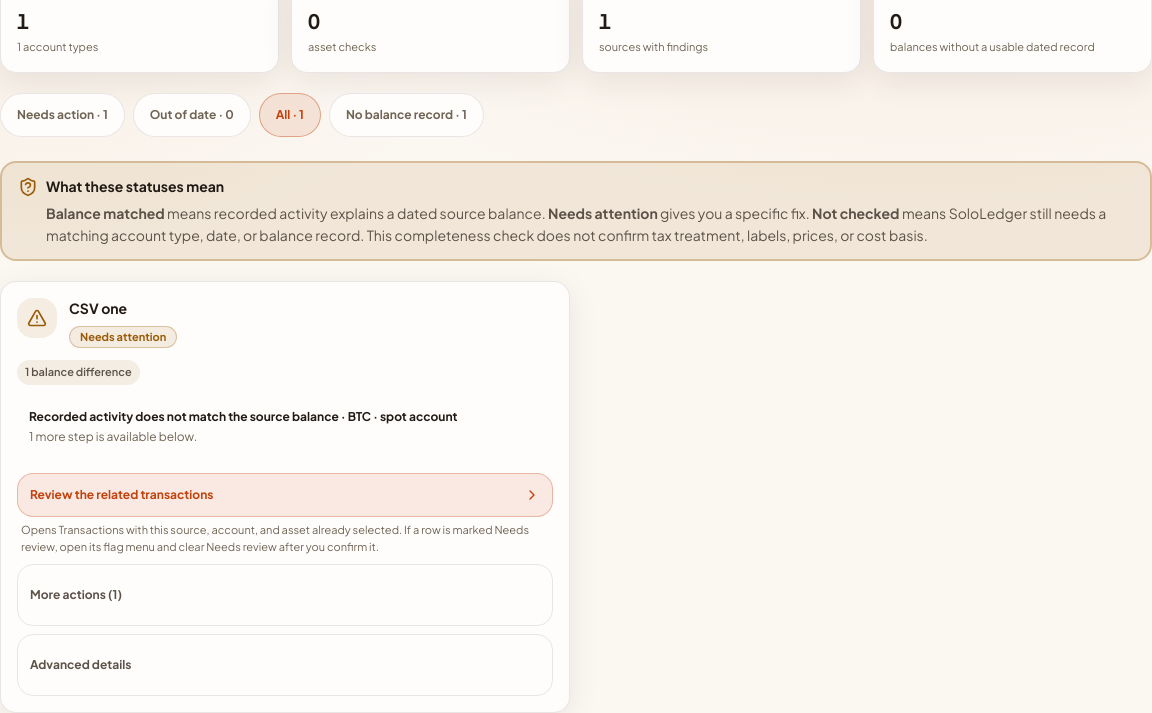
Test: DataHealthWorkspace › groups account-class findings that share the same actionable Import control
(page scrolled)
Click the heading "More actions (1)".
click(76, 595)  # box [30,587,122,602]
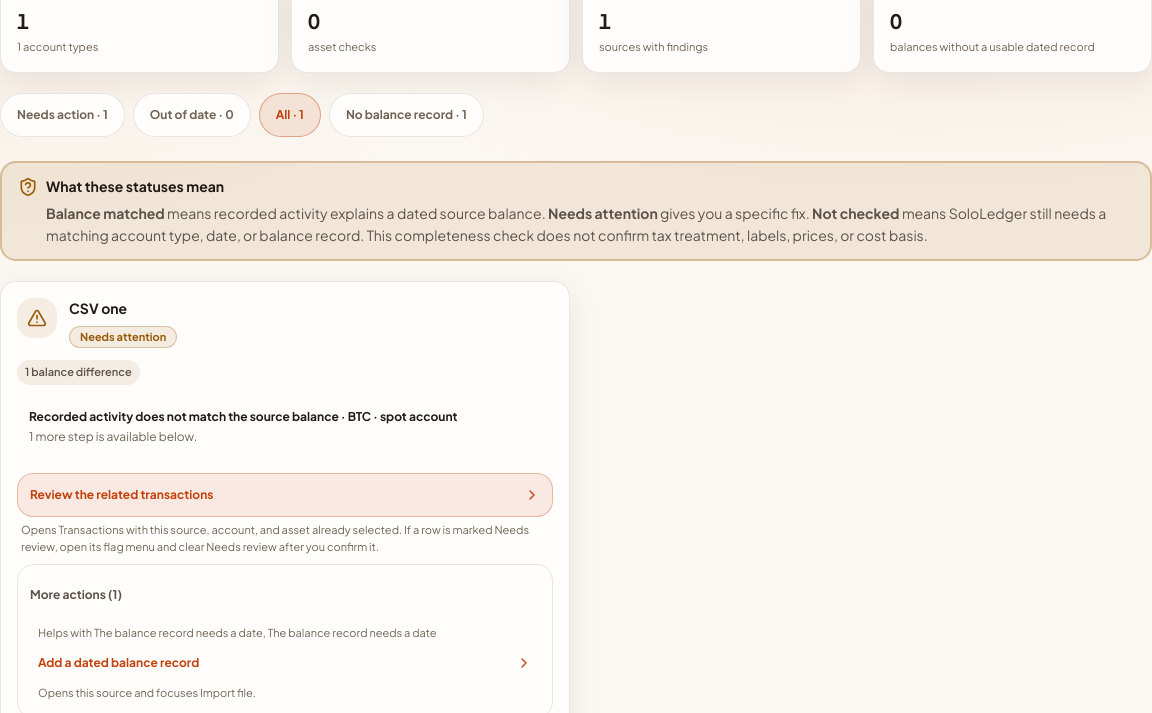
Expected: the button "Add a dated balance record" is shown, [30,641,540,685]
Expected: the text "Helps with The balance record needs a date, The balance record needs a date" is shown, [38,626,437,639]
Expected: the text "Opens this source and focuses Import file." is shown, [38,686,256,699]
